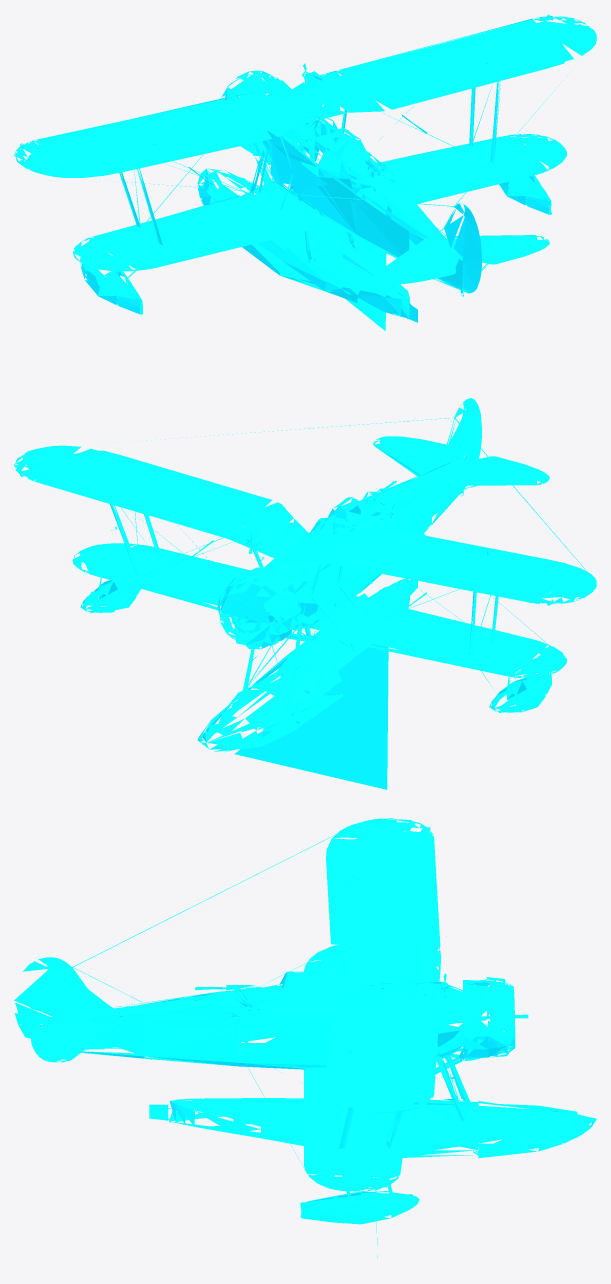
File: PIAS001.glb
The picture shows the model from 3 angles, top to bottom: view 1: azimuth 30°, elevation 25°; view 2: azimuth 150°, elevation 25°; view 3: azimuth 270°, elevation 25°; orthographic projection. The views are drawn at different scales.
Parts seen in each view (by area): view 1: misc; view 2: misc; view 3: misc.
Part boxes in pixels (x1,y1,x2,y2): misc: (14,14,596,330); misc: (14,398,596,789); misc: (14,818,596,1258).
Bounding box in the file's own units: 0.77 × 0.3348 × 0.6475.
